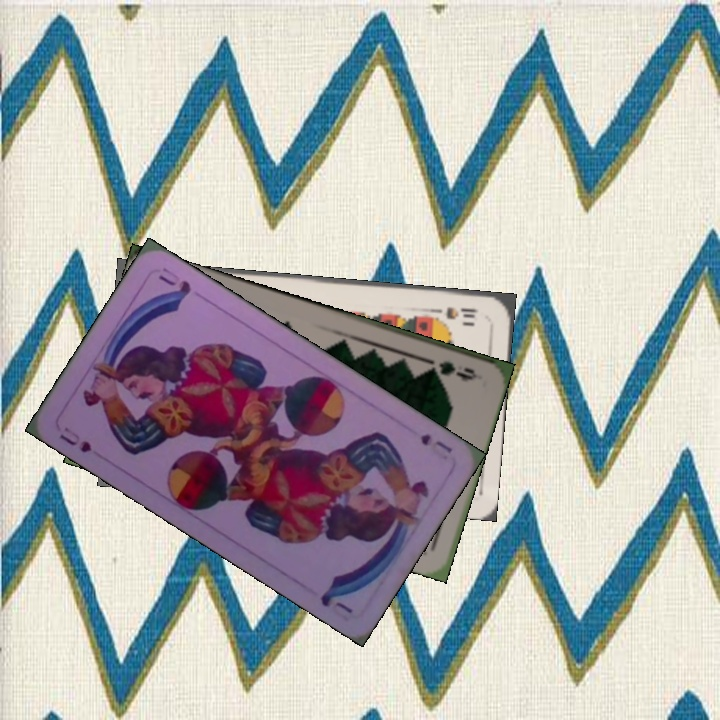G9: (424, 355, 482, 384)
S10: (429, 303, 480, 322)
SU: (55, 422, 95, 455), (416, 429, 455, 456)
